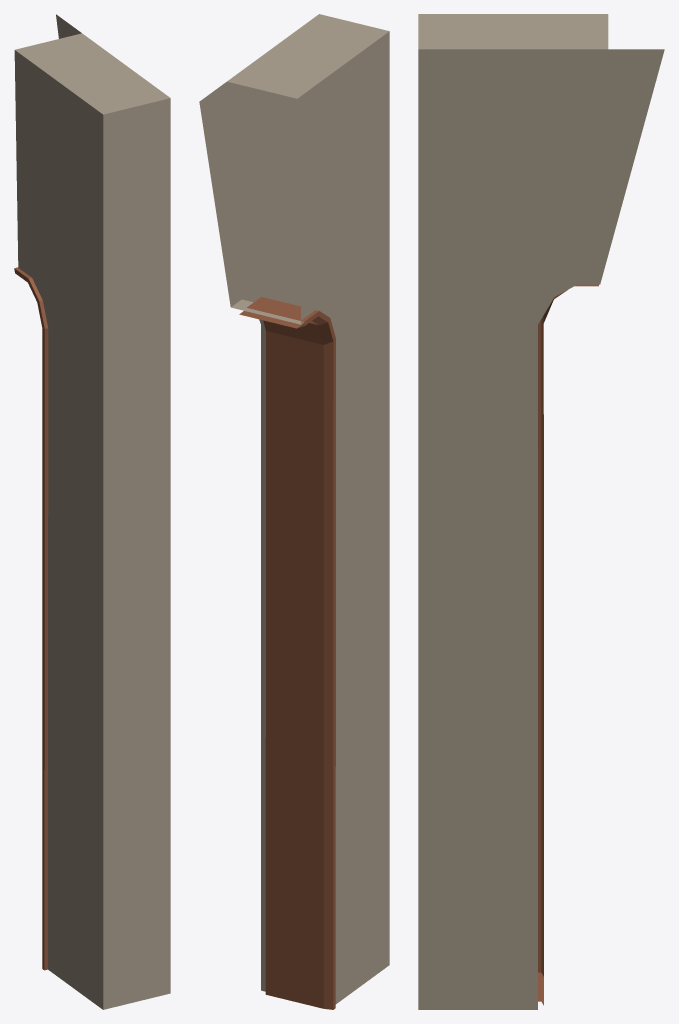
File: SM_Door_Circle_03.FBX
The picture shows the model from 3 angles, left to right: view 1: azimuth 30°, elevation 25°; view 2: azimuth 150°, elevation 25°; view 3: azimuth 270°, elevation 25°; orthographic projection. The views are drawn at different scales.
Parts seen in each view (by area): view 1: Object001; view 2: Object001; view 3: Object001.
Boxes of the visible parts, x1,y1,x2,y2 form: Object001: [14, 14, 170, 1009]; Object001: [199, 14, 389, 1009]; Object001: [418, 14, 664, 1009].
Size of the model in its own units: 160 by 1926 by 448.
